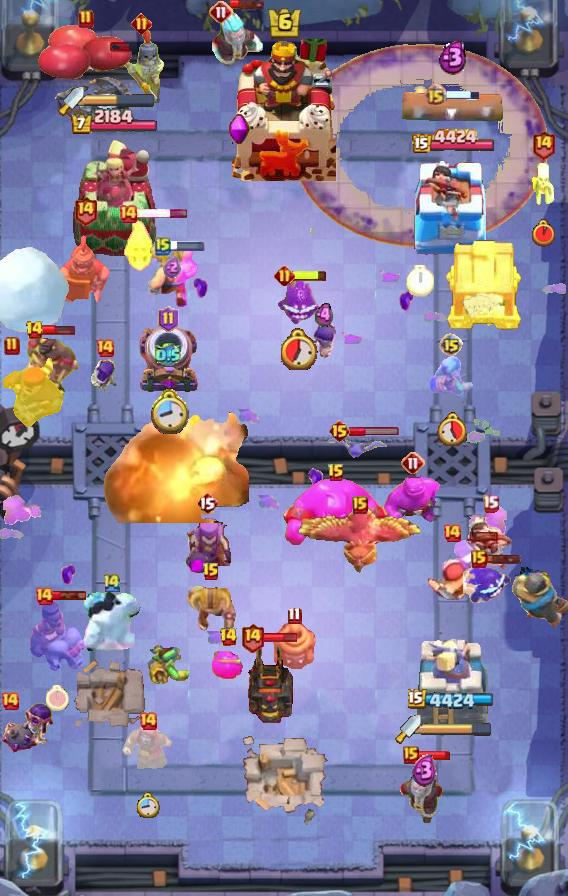bar: (136, 208, 189, 219), (349, 426, 400, 437), (292, 269, 328, 282), (485, 553, 522, 565), (42, 324, 75, 336), (263, 632, 298, 643), (52, 590, 87, 601), (445, 89, 480, 100), (168, 241, 206, 251), (417, 750, 451, 761), (230, 0, 266, 10)
bar-level: (240, 622, 265, 653), (73, 195, 98, 226), (531, 129, 556, 160), (401, 451, 425, 475), (439, 333, 463, 357), (209, 0, 233, 24), (328, 419, 351, 443), (158, 306, 179, 332), (424, 83, 447, 106), (196, 491, 218, 515), (274, 265, 295, 286), (131, 13, 152, 34), (102, 572, 122, 593), (138, 711, 158, 731), (0, 691, 20, 711), (34, 586, 54, 606), (442, 523, 462, 543), (95, 338, 115, 358), (118, 204, 138, 224), (219, 627, 238, 647), (25, 320, 44, 340), (202, 562, 220, 582), (327, 463, 345, 483), (482, 494, 499, 513), (4, 336, 20, 356), (155, 236, 171, 256), (78, 9, 94, 29), (403, 746, 419, 764), (471, 550, 487, 568), (352, 496, 368, 514), (287, 606, 302, 625)
bat-evolution: (324, 434, 388, 460)
bomber-evolution: (0, 700, 56, 756)
clock: (148, 387, 189, 434), (281, 328, 318, 370), (437, 412, 466, 446), (406, 265, 434, 297), (532, 219, 555, 247), (136, 792, 160, 818), (46, 685, 69, 711)
dagger-duchess-tower: (70, 138, 158, 256), (416, 637, 490, 731)
dagger-duchess-tower-bar: (421, 722, 493, 736), (84, 93, 156, 107)
electro-spirit: (275, 277, 323, 329), (463, 563, 513, 605)
elite-barbarian: (147, 242, 198, 308), (186, 582, 236, 634)
elixir: (438, 39, 468, 75), (412, 754, 437, 788), (155, 344, 181, 367), (315, 302, 333, 329), (163, 256, 181, 278)
elixir-golem-mid: (381, 476, 445, 530)
elixir-golem-small: (212, 649, 244, 679)
evolution-symbol: (228, 113, 250, 147)
guard: (116, 27, 166, 103)
heal-spirit: (123, 219, 159, 273)
hunter: (0, 355, 66, 429)
ice-wizard: (393, 758, 455, 826), (206, 6, 266, 72)
king-tower: (232, 39, 336, 181)
knight: (510, 567, 568, 628)
lumberjack: (420, 538, 484, 604)
mortar-evolution: (136, 325, 200, 395)
mother-witch: (181, 517, 233, 579)
princess: (466, 513, 514, 571)
queen-tower: (407, 158, 499, 256)
ram-rider: (28, 597, 86, 673)
royal-recruit: (57, 230, 113, 306)
skeleton: (528, 162, 558, 208)
skeleton-evolution: (89, 358, 121, 396), (311, 320, 337, 358)
spear-goblin: (426, 355, 476, 399), (146, 643, 194, 685)
the-log: (399, 92, 507, 122)
tower-bar: (70, 108, 159, 136), (411, 128, 496, 156), (408, 689, 498, 712)
wizard: (121, 719, 175, 777)
zappy: (271, 617, 317, 669)
